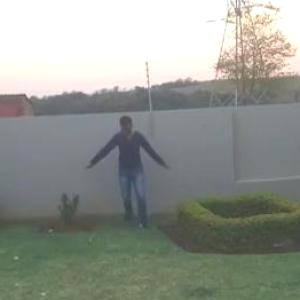land: (85, 111, 174, 236)
